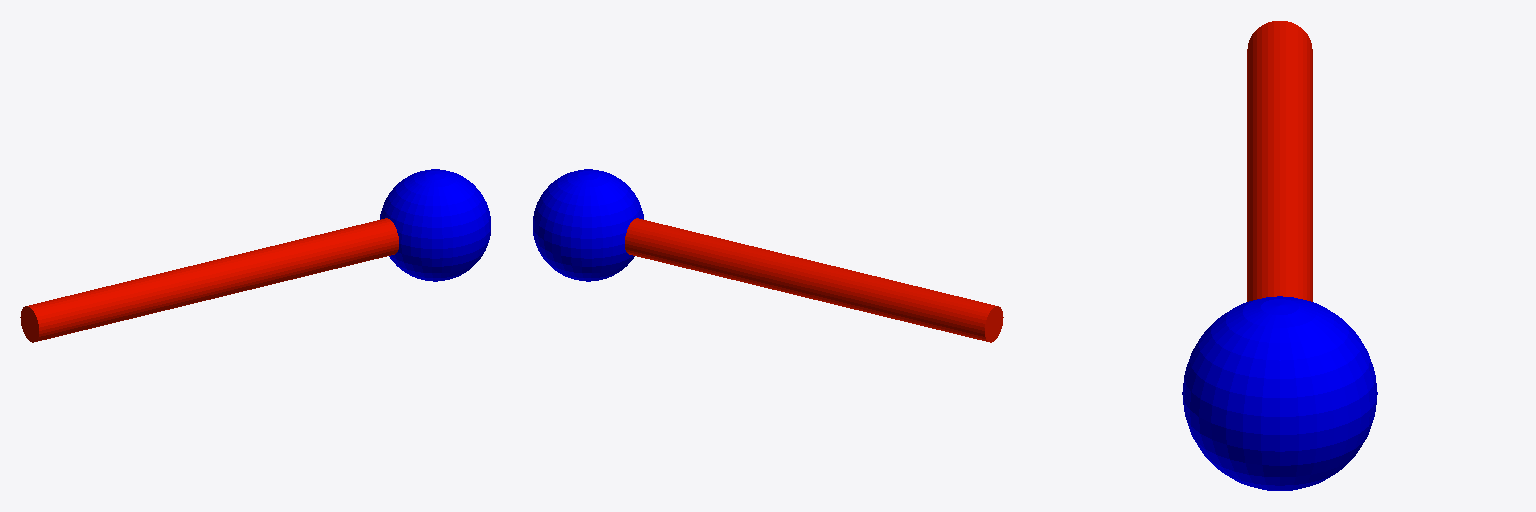
URDF robot description (pendulum):
<robot name="pendulum">
    <material name="Red">
        <color rgba=".9 .1 0 1"/>
    </material>
    <material name="Blue">
        <color rgba="0 0 1 1"/>
    </material>

    <joint name="pendulum_joint" type="continuous">
      <origin xyz="0 0.18 0.0" rpy="0 0 0"/>
      <axis xyz="0 0 1"/>
      <parent link="world"/>
      <child link="sphere"/>
      <dynamics damping="0.01"/>
      <limit effort="0" velocity="0"/>
      <safety_controller k_velocity="0"/>
    </joint>

    <link name="world">
      <inertial>
        <mass value="0" />
        <origin xyz="0.0 0.0 0" rpy="0 0 0" />
        <inertia  ixx="0" ixy="0" ixz="0"
                  iyy="0" iyz="0"
                  izz="0" />
      </inertial>
    </link>

    <link name="sphere">
      <inertial>
        <mass value="10.05" />
        <origin xyz="0.25 0 0" rpy="0 0 0" />
        <inertia  ixx="0.001" ixy="0.0" ixz="0.0"
                  iyy="0.001" iyz="0.0"
                  izz="0.001" />
      </inertial>
      <visual>
        <origin xyz="0.25 0 0" rpy="0 0 0" />
        <geometry>
          <sphere radius="0.03"/>
        </geometry>
        <material name="Blue" />
      </visual>
      <collision>
        <origin xyz="0 0 0.25" rpy="0 0 0" />
        <geometry>
          <sphere radius="0.03"/>
        </geometry>
      </collision>
    </link>

    <joint name="pendulum_fixed_joint" type="fixed">
      <origin xyz="0 0 0" rpy="0 0 0" />
      <parent link="sphere"/>
      <child link="rod"/>
    </joint>

    <link name="rod">
      <inertial>
        <mass value="0.001" />
        <origin xyz="0 0 0" rpy="0 0 0" />
        <inertia  ixx="0.001" ixy="0.0" ixz="0.0"
                  iyy="0.001" iyz="0.0"
                  izz="0.001" />
      </inertial>
      <visual>
        <origin xyz="0.125 0 0" rpy="0 1.5708 0" />
        <geometry>
          <cylinder radius="0.01" length="0.25"/>
        </geometry>
        <material name="Red" />
      </visual>
      <collision>
        <origin xyz="0 0 0.125" rpy="0 0 0" />
        <geometry>
          <cylinder radius="0.01" length="0.25"/>
        </geometry>
      </collision>
    </link>
</robot>

--- Render facts (derived) ---
3 views of the same robot in one strip: view 1: azimuth 30°, elevation 25°; view 2: azimuth 150°, elevation 25°; view 3: azimuth 270°, elevation 25° (orthographic).
Robot: pendulum — 3 links, 2 joints (1 continuous, 1 fixed); root link world; default pose: every joint at zero.
Links seen in each view (by area): view 1: rod, sphere; view 2: rod, sphere; view 3: sphere, rod.
Link boxes in pixels (x1,y1,x2,y2): rod: [20, 218, 398, 342]; sphere: [380, 169, 490, 281]; rod: [625, 218, 1003, 342]; sphere: [533, 169, 643, 281]; sphere: [1182, 296, 1377, 490]; rod: [1247, 21, 1312, 301].
Size in the robot's own frame: 0.28 by 0.06 by 0.06 metres.
Geometry: primitives only (box / cylinder / sphere), no mesh files.